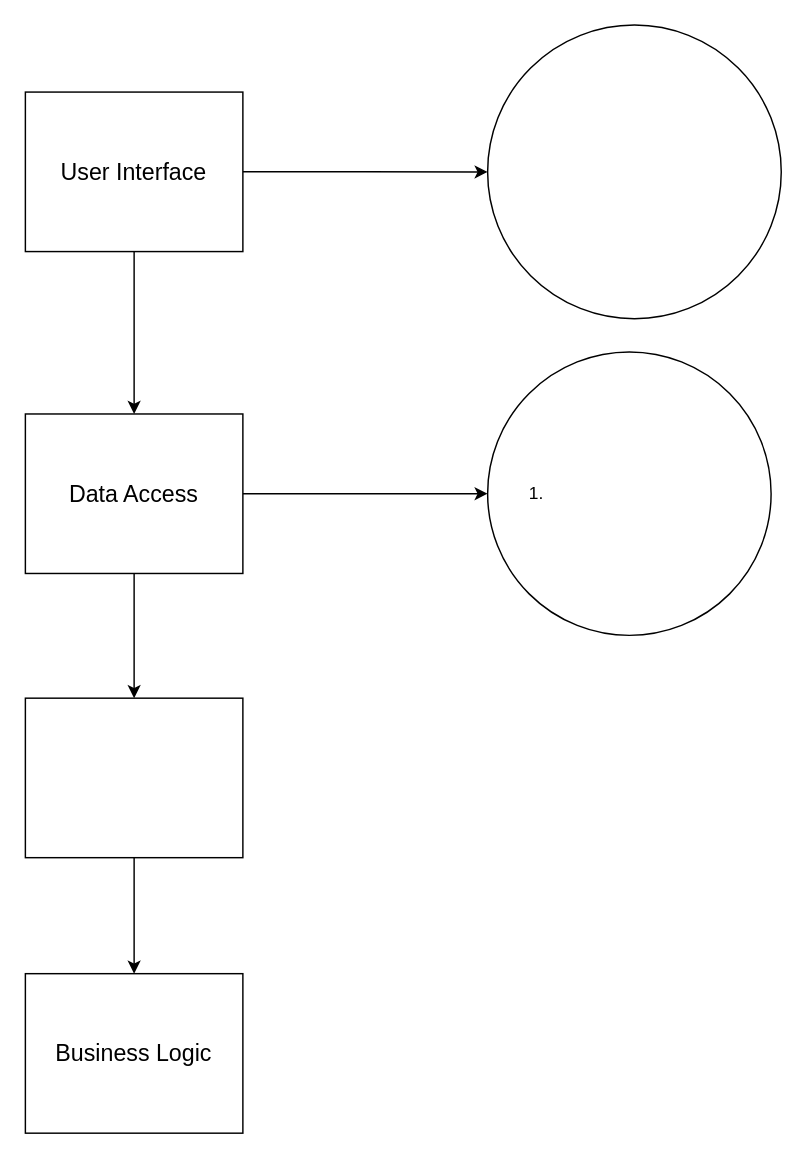
This 808x1160 diagram has some shape labels left out. Each missing label, with the box of its shape:
Routing: (24, 697, 243, 858)
View Component Presentation Layer Page (.chstml extension): (486, 24, 781, 319)
